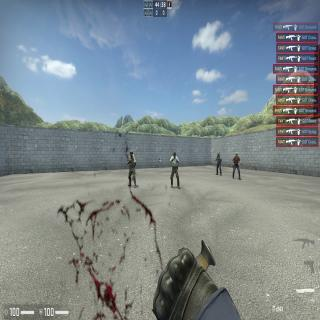CT-Body: (128, 151, 136, 186), (217, 152, 221, 174)
CT-Head: (130, 151, 133, 156), (218, 152, 219, 156)
T-Body: (170, 151, 179, 188), (232, 152, 240, 180)
T-Head: (174, 151, 176, 158), (236, 152, 238, 157)
